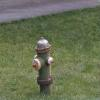Hydrant: (26, 28, 61, 97)
